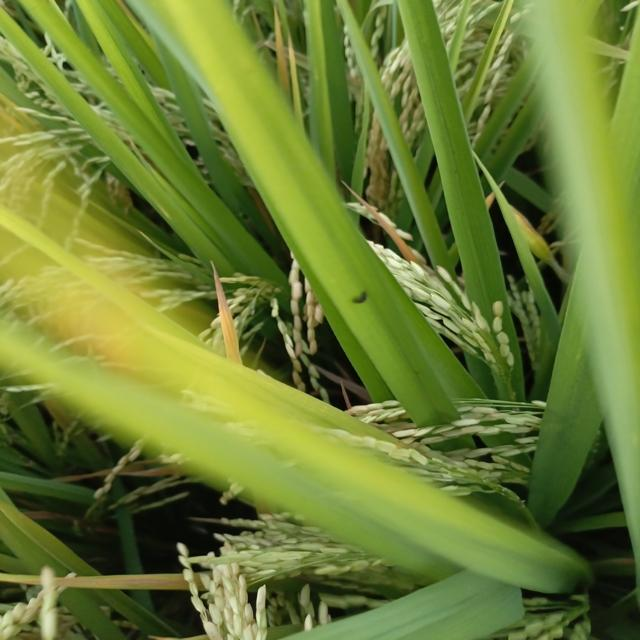Brown spot: (339, 182, 428, 270), (3, 566, 201, 600), (200, 262, 252, 366), (504, 197, 566, 275)
